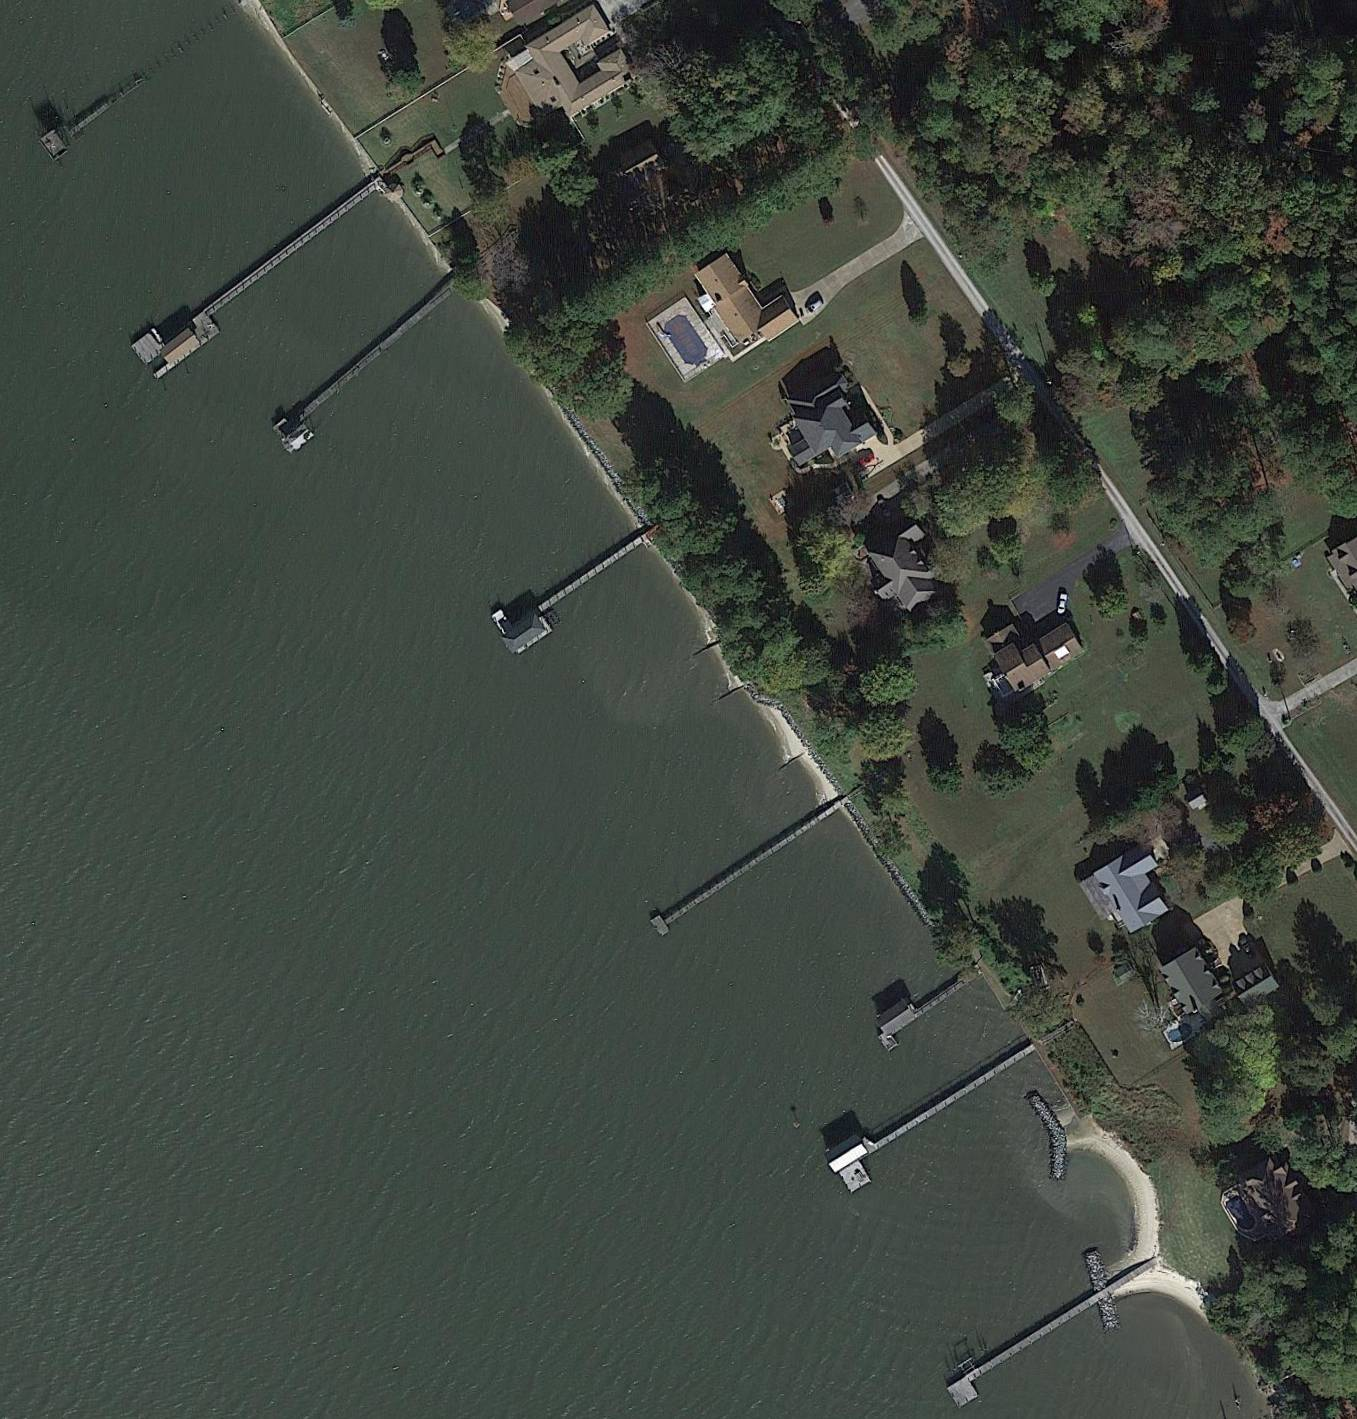harbor: (131, 165, 387, 383), (822, 1033, 1044, 1197), (271, 292, 449, 455), (651, 802, 834, 938), (946, 1278, 1131, 1411), (487, 526, 652, 658), (869, 963, 973, 1052)
swimming pool: (657, 308, 716, 375)
